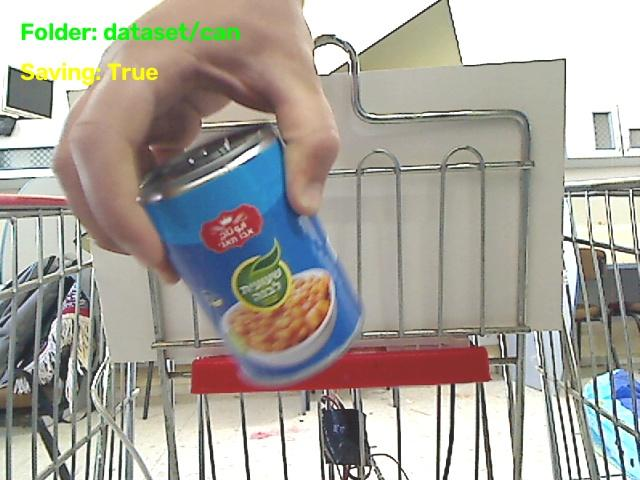can: (139, 124, 361, 385)
